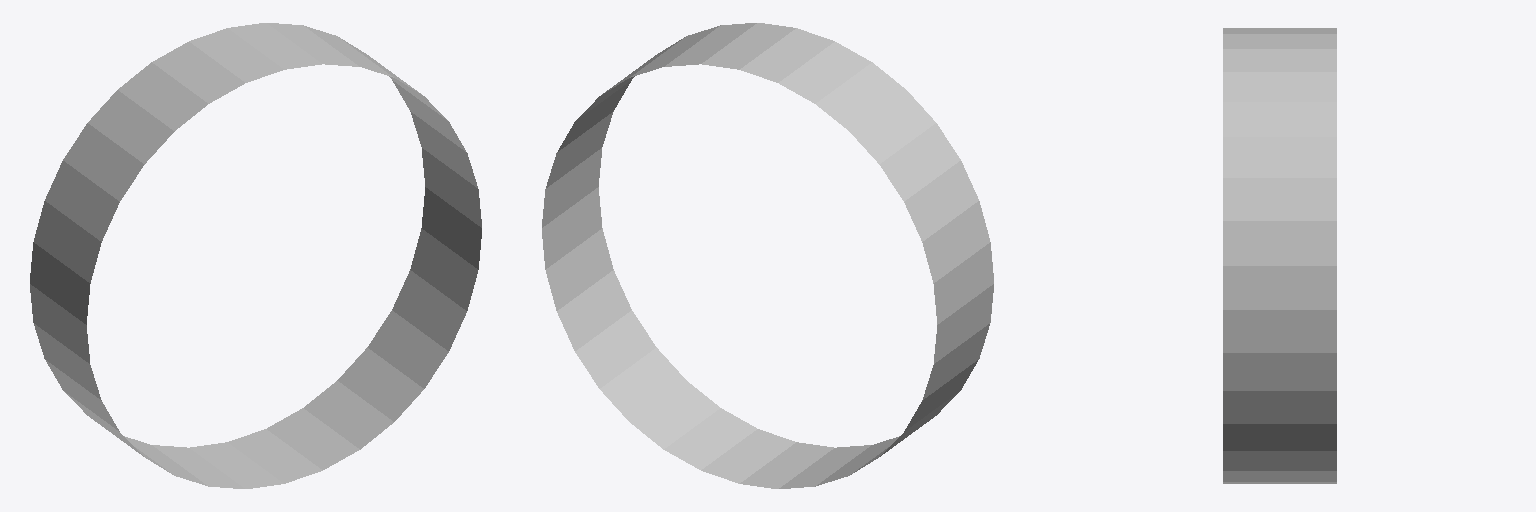
The model's file is pipe0.obj.
3 views of the same model, side by side, from view 1: azimuth 30°, elevation 25°; view 2: azimuth 150°, elevation 25°; view 3: azimuth 270°, elevation 25° (orthographic).
Parts seen in each view (by area): view 1: Cylinder.001; view 2: Cylinder.001; view 3: Cylinder.001.
Boxes of the visible parts, box(x1,y1,x2,y2) form: Cylinder.001: box(30, 23, 481, 488); Cylinder.001: box(542, 23, 993, 488); Cylinder.001: box(1223, 28, 1336, 483).
Size of the model in its own units: 4 by 4 by 1.